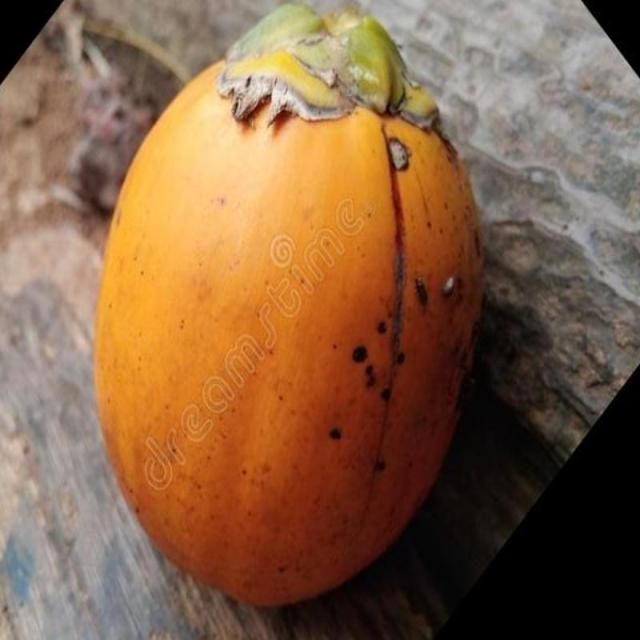good: (95, 5, 482, 605)
